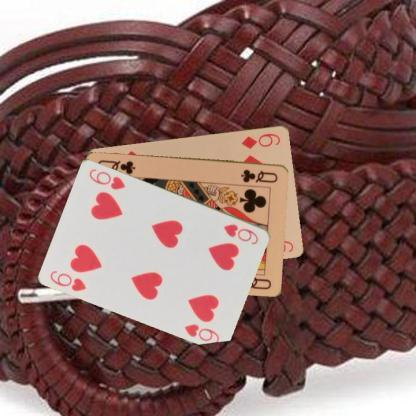6d: (239, 131, 282, 150)
6h: (47, 268, 88, 292), (221, 221, 260, 245)
Qc: (239, 166, 279, 184)
